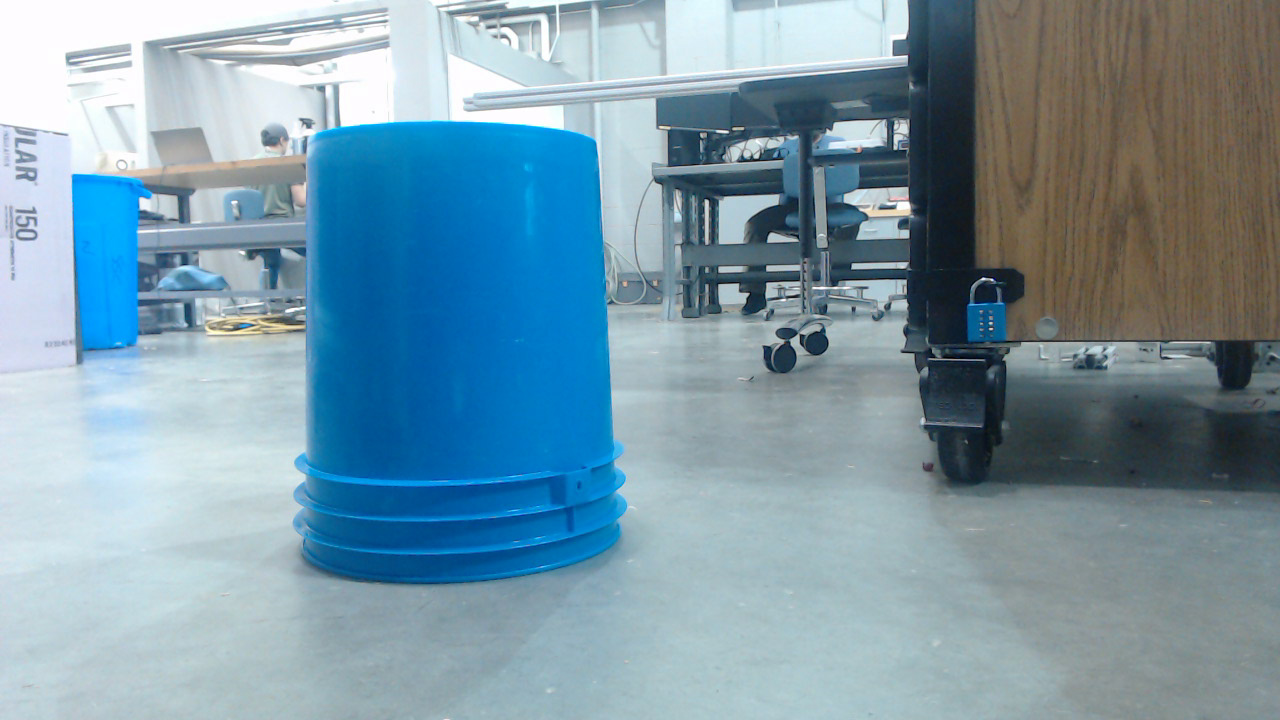blue_bucket: (295, 124, 633, 590)
